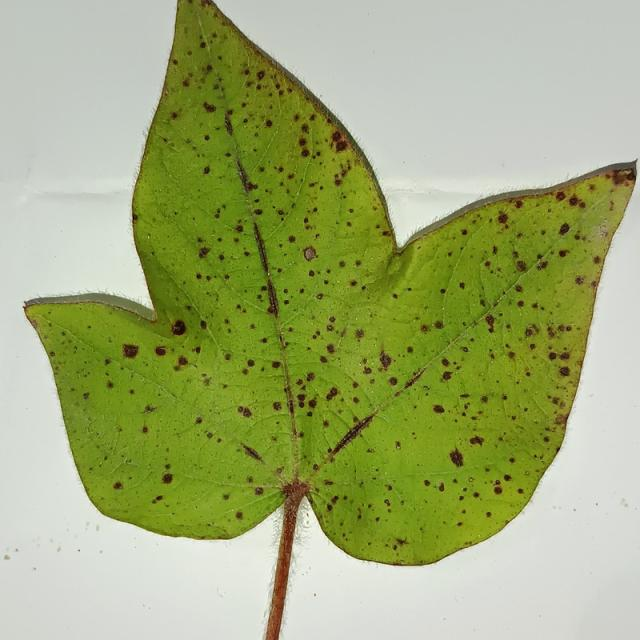Bacterial_Blight: (327, 415, 374, 458), (114, 339, 142, 363), (546, 323, 572, 340), (611, 168, 634, 186), (449, 449, 464, 466), (171, 320, 186, 336), (379, 353, 392, 369), (303, 246, 317, 260), (237, 405, 252, 418), (334, 139, 348, 152), (325, 387, 338, 401), (243, 179, 257, 192), (485, 314, 495, 332), (224, 115, 233, 135), (469, 435, 484, 446), (558, 223, 571, 235), (198, 246, 210, 258), (203, 102, 216, 113), (143, 404, 157, 414), (155, 345, 167, 356), (568, 196, 580, 207), (515, 260, 526, 272), (161, 473, 173, 484), (432, 404, 445, 414), (497, 213, 508, 224), (177, 356, 188, 367), (331, 131, 342, 142), (559, 366, 570, 377), (555, 192, 567, 202), (525, 326, 535, 338), (355, 328, 365, 339), (326, 343, 336, 354), (555, 415, 566, 425), (396, 537, 408, 546), (442, 371, 452, 381), (296, 393, 306, 403), (272, 401, 282, 411), (558, 249, 569, 258), (256, 70, 265, 81), (308, 398, 317, 409), (434, 320, 444, 329), (560, 351, 570, 360), (575, 276, 585, 285), (306, 372, 315, 382), (301, 124, 310, 134), (267, 305, 276, 315), (441, 357, 450, 366), (235, 224, 244, 233), (319, 355, 328, 364), (389, 377, 398, 386), (514, 284, 523, 293), (592, 255, 601, 264), (254, 486, 263, 495), (113, 482, 123, 490), (334, 176, 342, 186), (438, 481, 445, 492), (288, 235, 296, 244), (254, 208, 263, 216), (301, 148, 309, 157), (503, 474, 512, 482), (494, 486, 503, 494), (246, 359, 255, 367), (265, 119, 273, 128), (548, 352, 557, 360), (363, 366, 372, 374), (200, 320, 208, 329), (406, 346, 414, 354), (338, 260, 346, 268), (272, 361, 280, 369), (195, 417, 203, 425), (517, 300, 525, 308), (423, 479, 431, 487), (235, 511, 243, 519), (182, 79, 190, 87), (206, 431, 214, 439), (203, 165, 210, 174), (460, 228, 468, 235), (459, 281, 466, 289), (349, 280, 357, 287), (107, 381, 114, 389), (82, 392, 89, 400), (308, 270, 315, 277), (223, 493, 230, 500), (329, 316, 336, 323), (224, 353, 231, 360), (199, 41, 206, 48), (316, 293, 323, 300), (384, 499, 391, 506), (440, 288, 447, 294), (142, 426, 148, 433), (509, 457, 515, 464), (49, 351, 56, 357), (204, 135, 210, 141), (486, 512, 492, 518)
Cotton: (25, 0, 635, 639)
